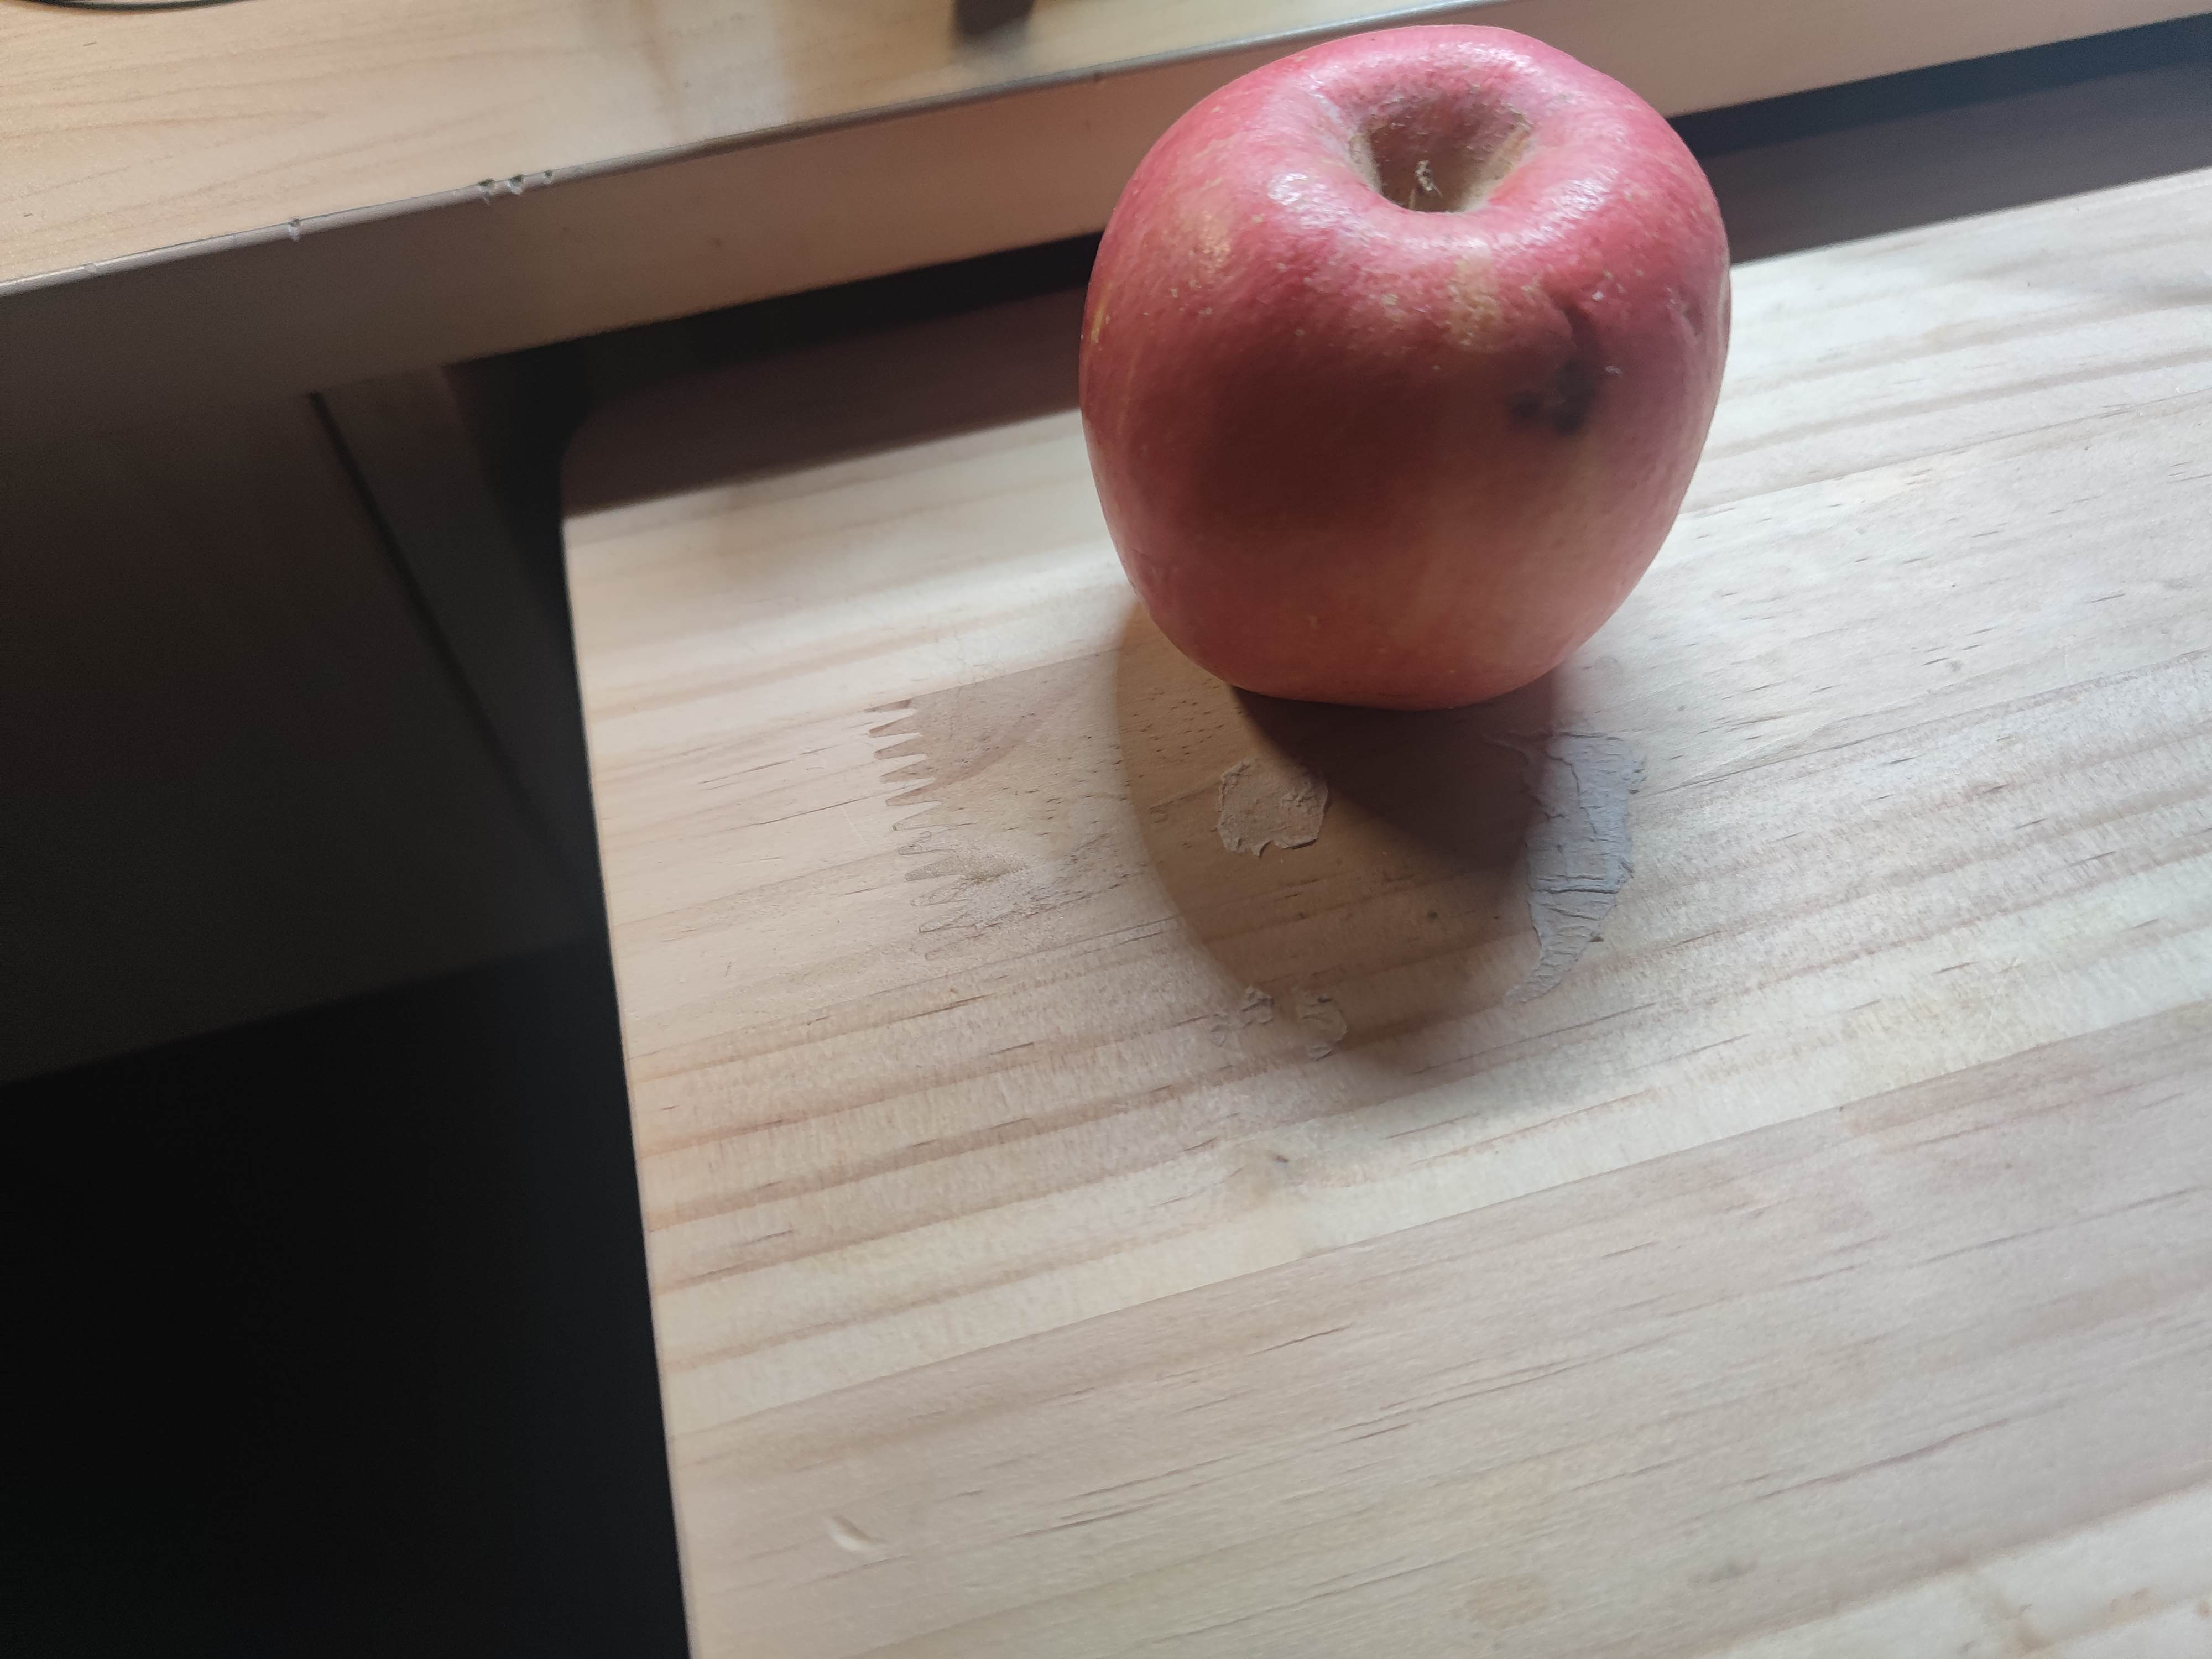apple: (1073, 24, 1737, 720)
